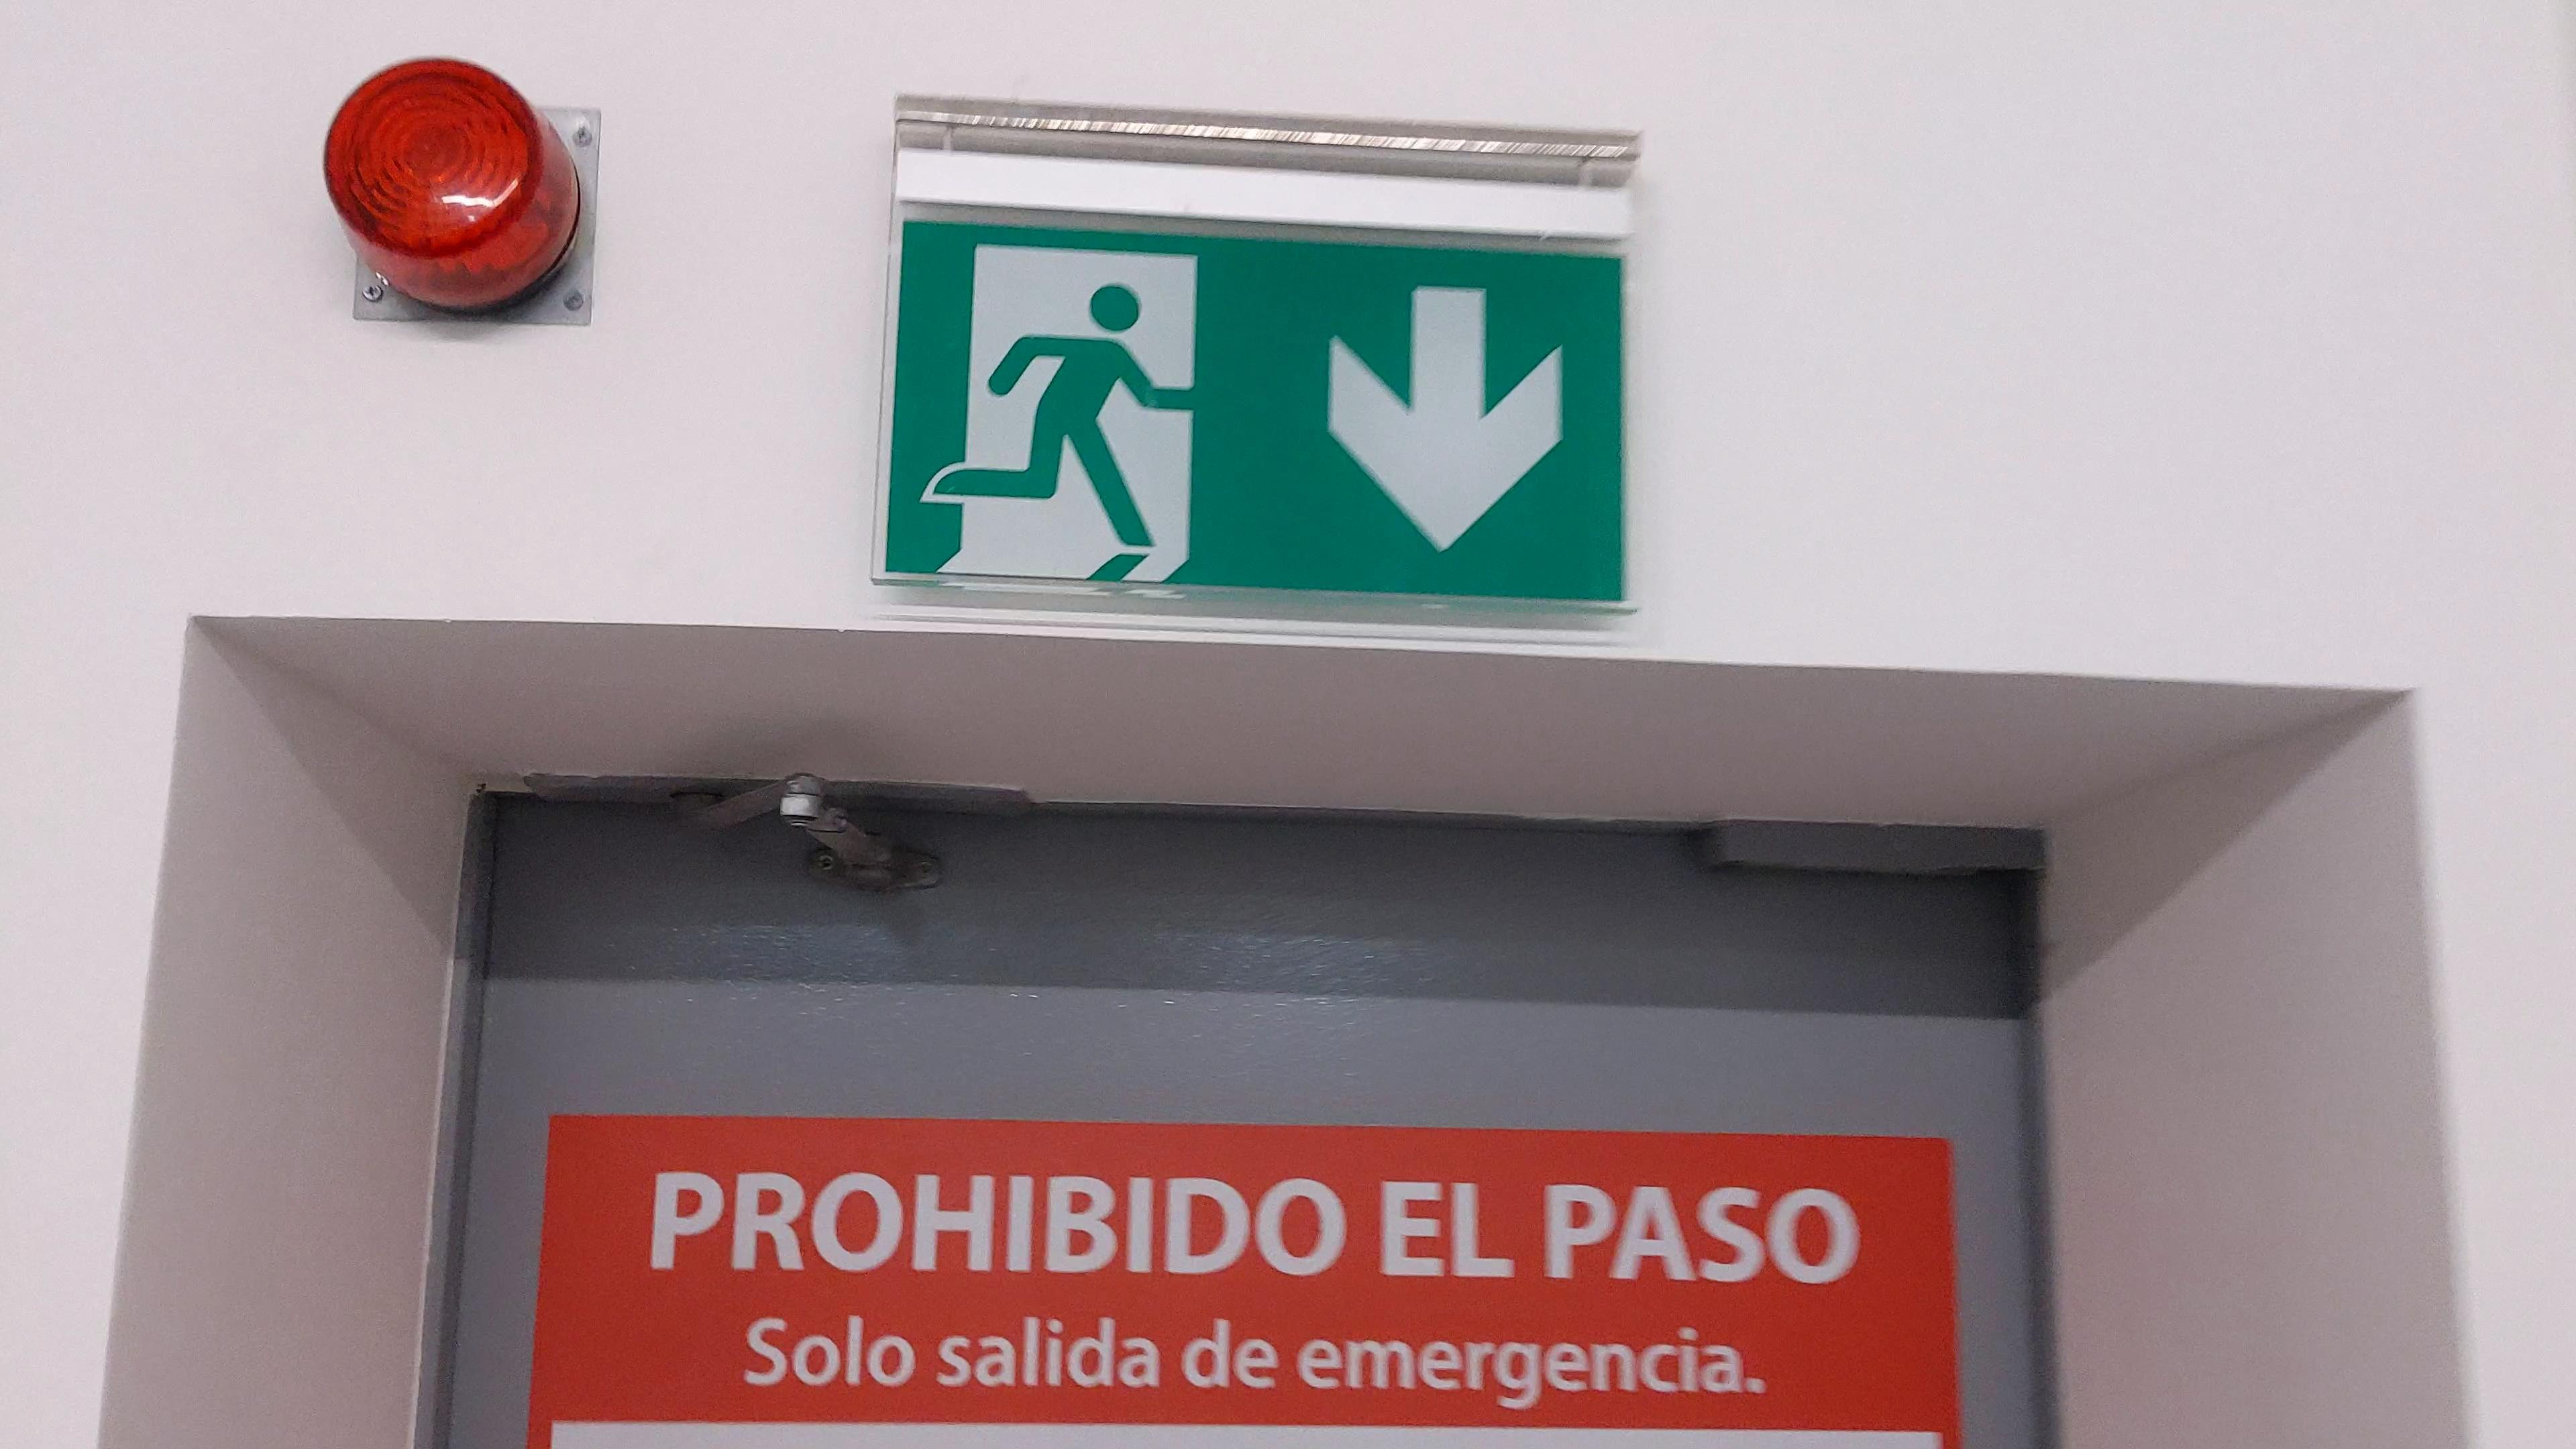emergency down arrow: (1313, 272, 1578, 559)
emergency exit: (911, 230, 1217, 596)
